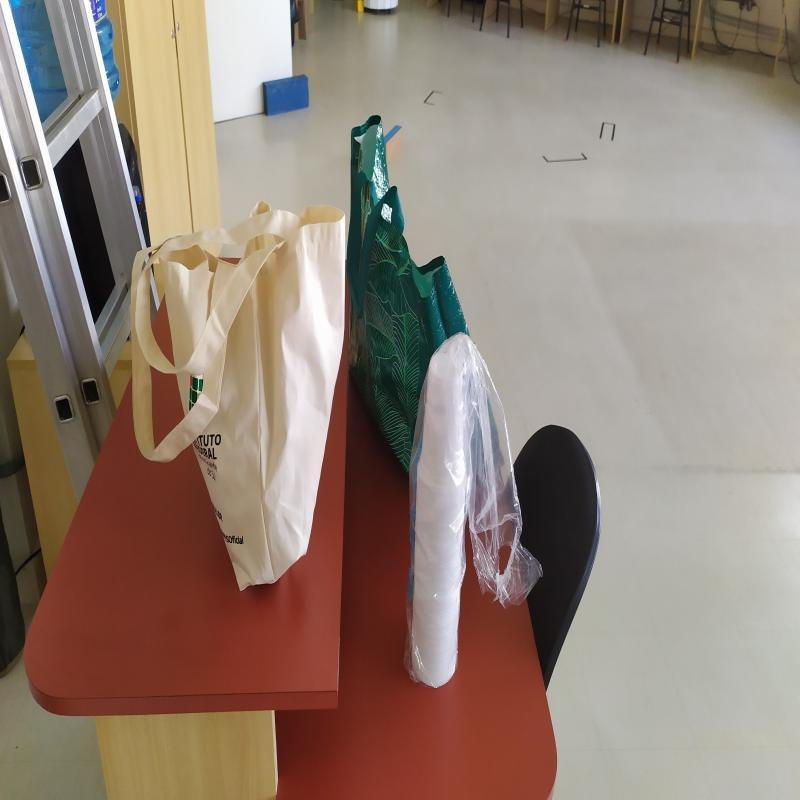Bag: (129, 207, 349, 594), (349, 112, 472, 484)
